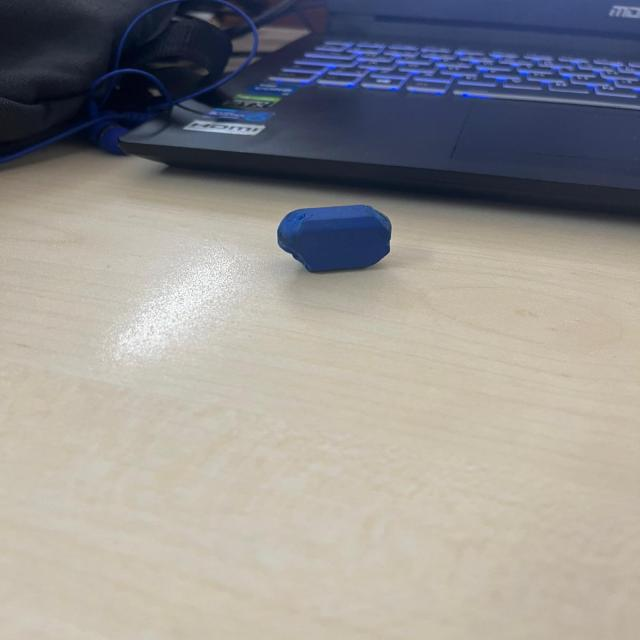eraser: (272, 202, 401, 284)
